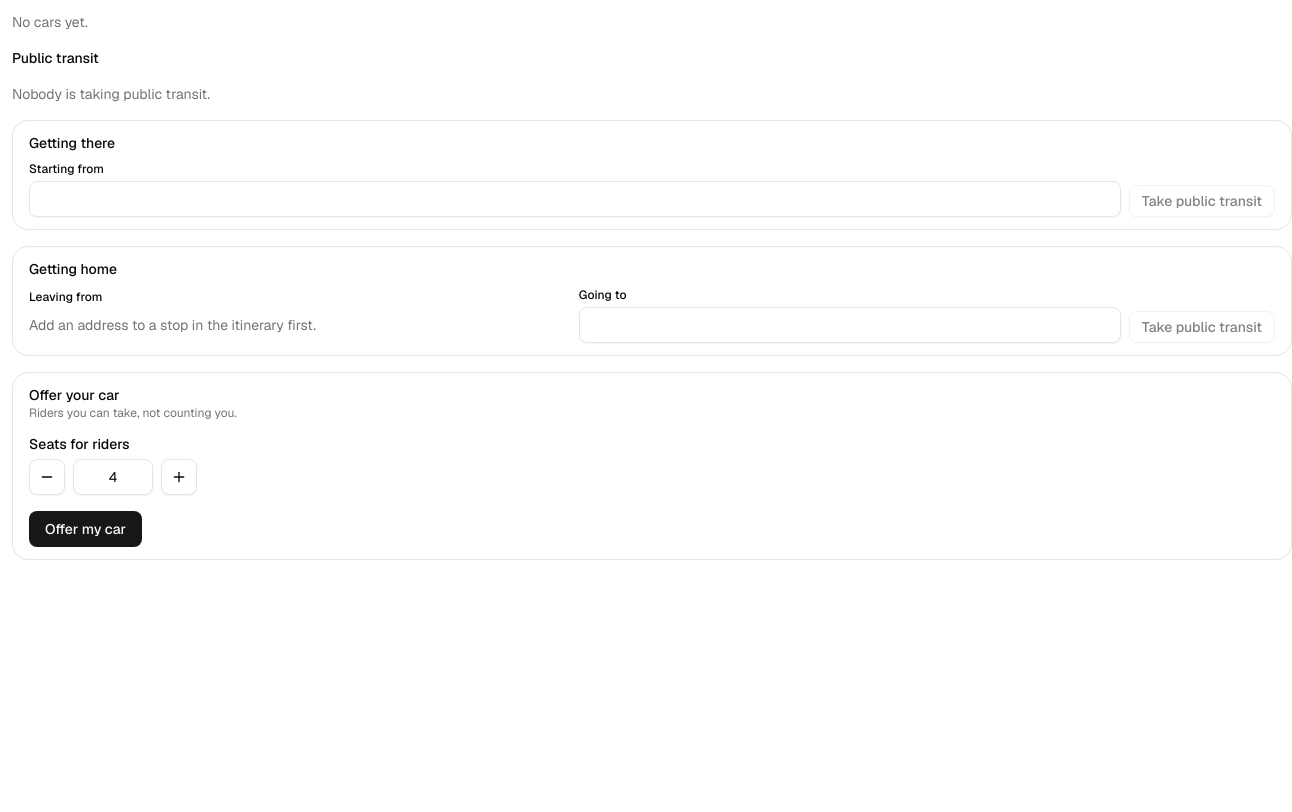
it: Carpools › steps the seat count within 1 to 12
The width and height of the screenshot is (1292, 812).
Expected: the number field labelled "Seats for riders" holds "4", x1=73 y1=459 x2=153 y2=495
Click the button named "More seats": (179, 477) x1=161 y1=459 x2=197 y2=495
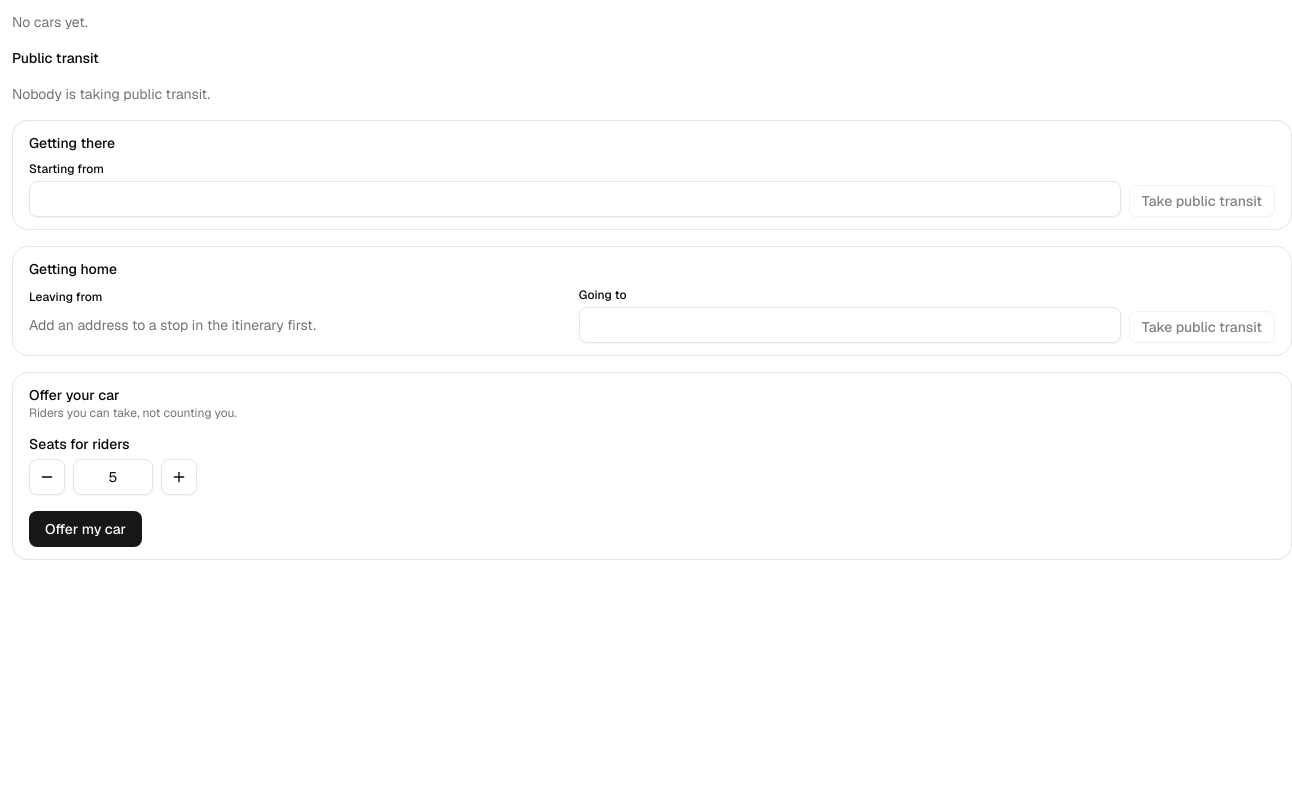
Expected: the number field labelled "Seats for riders" holds "5", x1=73 y1=459 x2=153 y2=495
Click the button named "Fewer seats": (47, 477) x1=29 y1=459 x2=65 y2=495
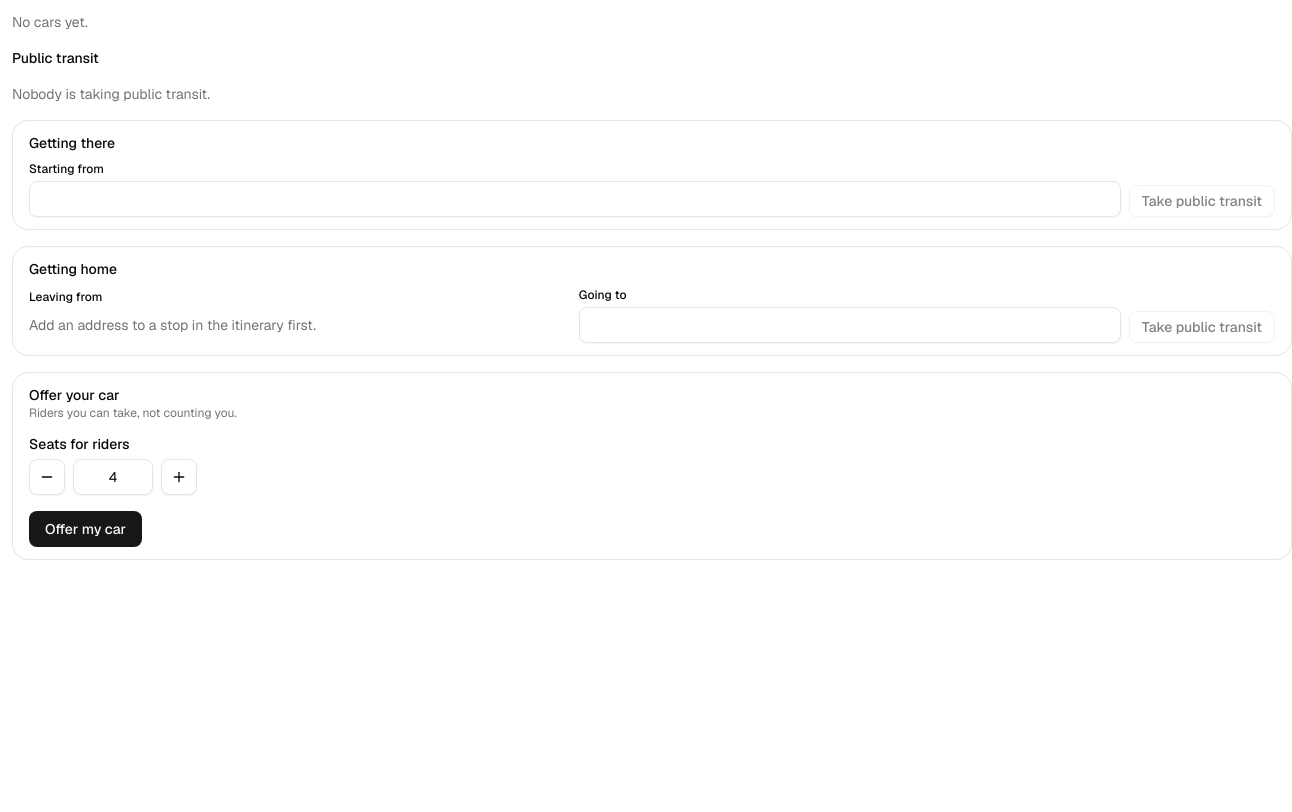
Click the button named "Fewer seats": (47, 477) x1=29 y1=459 x2=65 y2=495
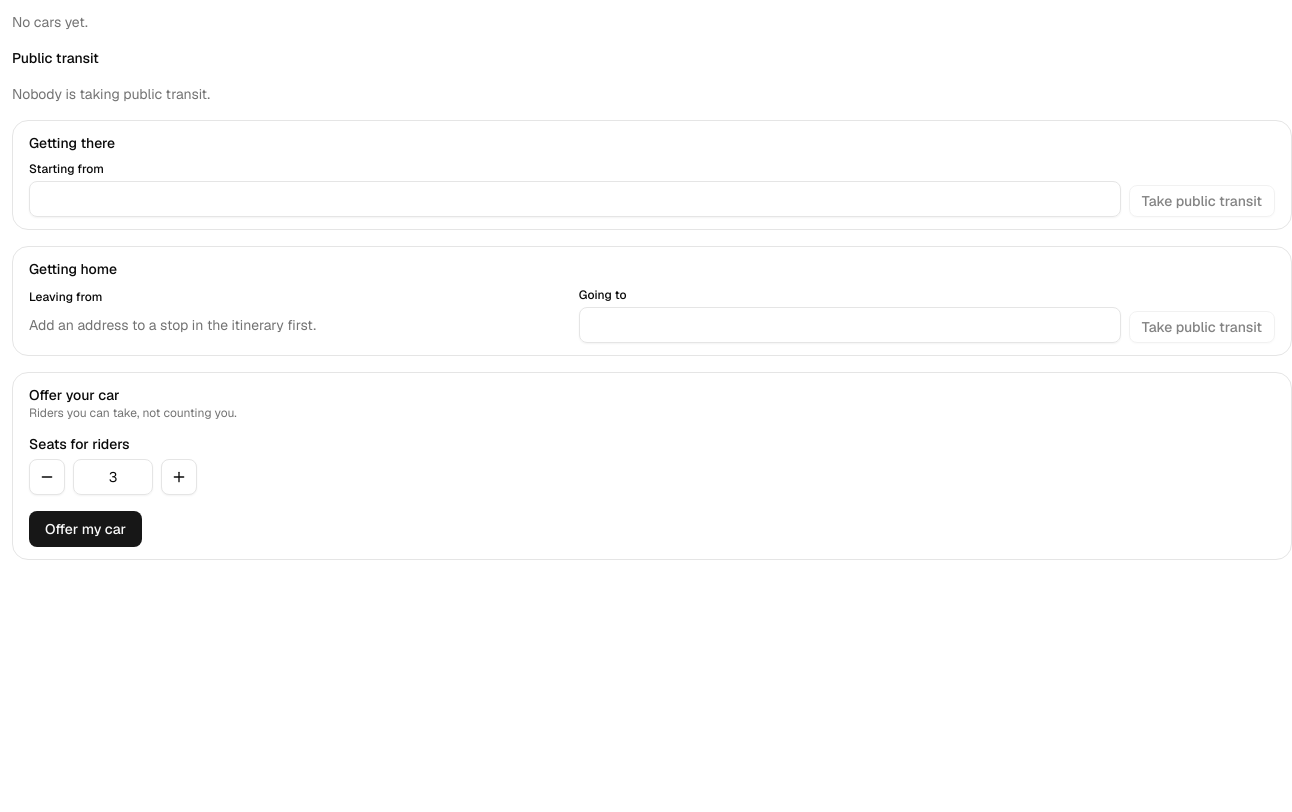
Expected: the number field labelled "Seats for riders" holds "3"
Replace the text in the number field labelled "Seats for riders" with "1": (113, 477) x1=73 y1=459 x2=153 y2=495
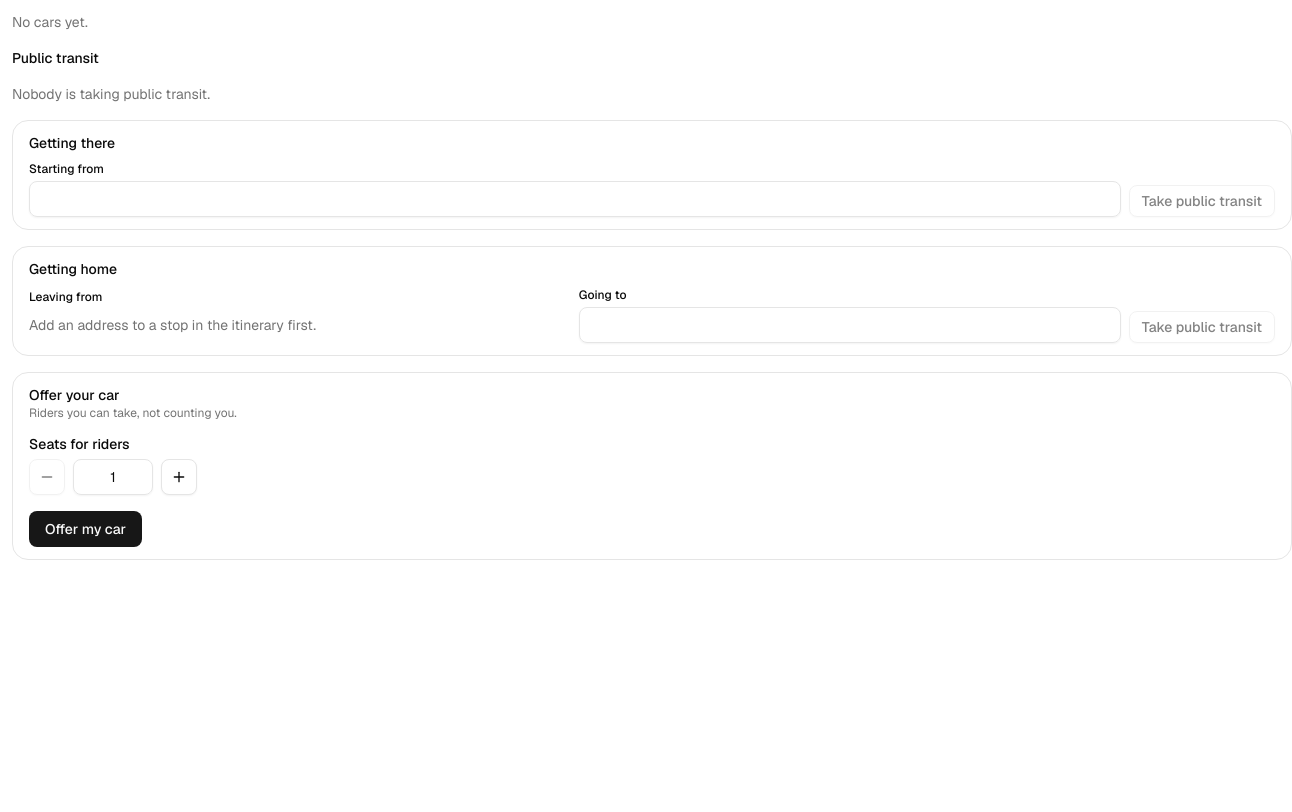
Expected: the button named "Fewer seats" is disabled, x1=29 y1=459 x2=65 y2=495
Replace the text in the number field labelled "Seats for riders" with "12": (113, 477) x1=73 y1=459 x2=153 y2=495
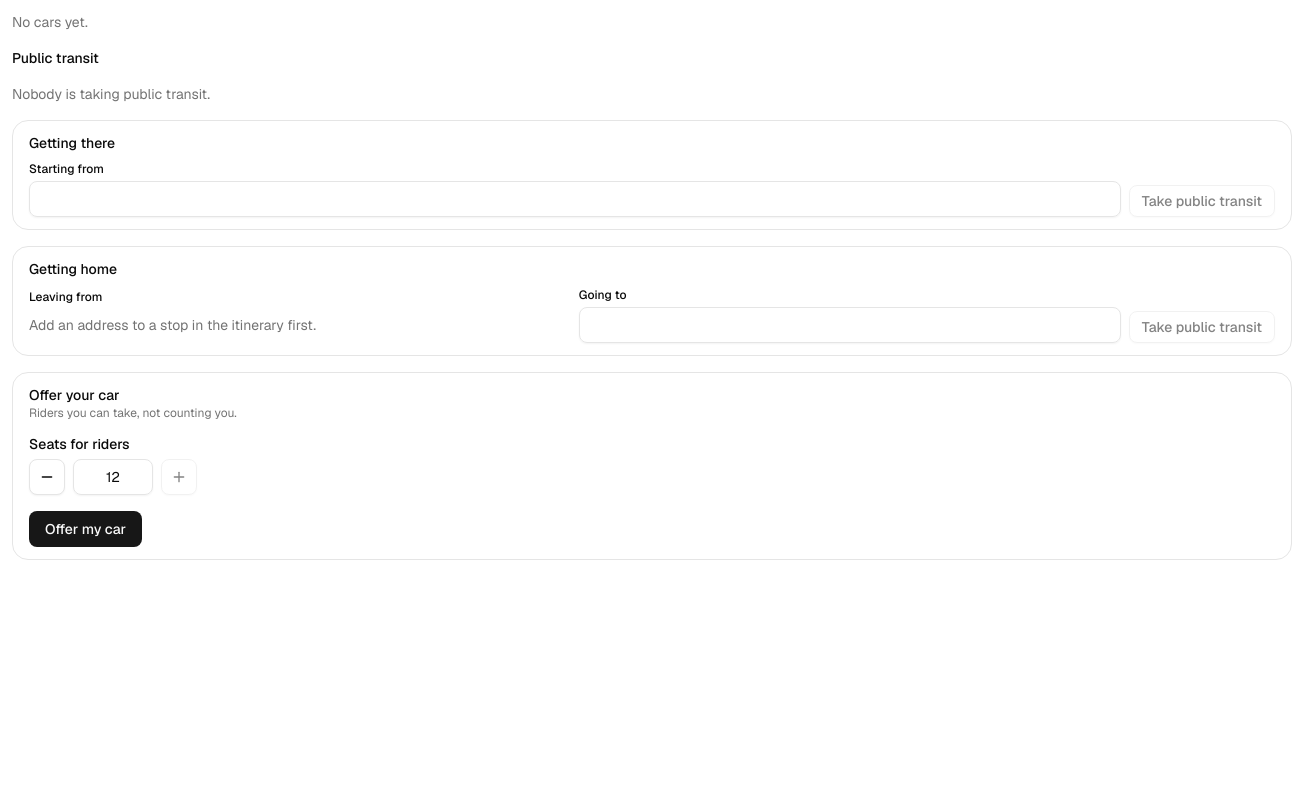
Expected: the button named "More seats" is disabled, x1=161 y1=459 x2=197 y2=495
